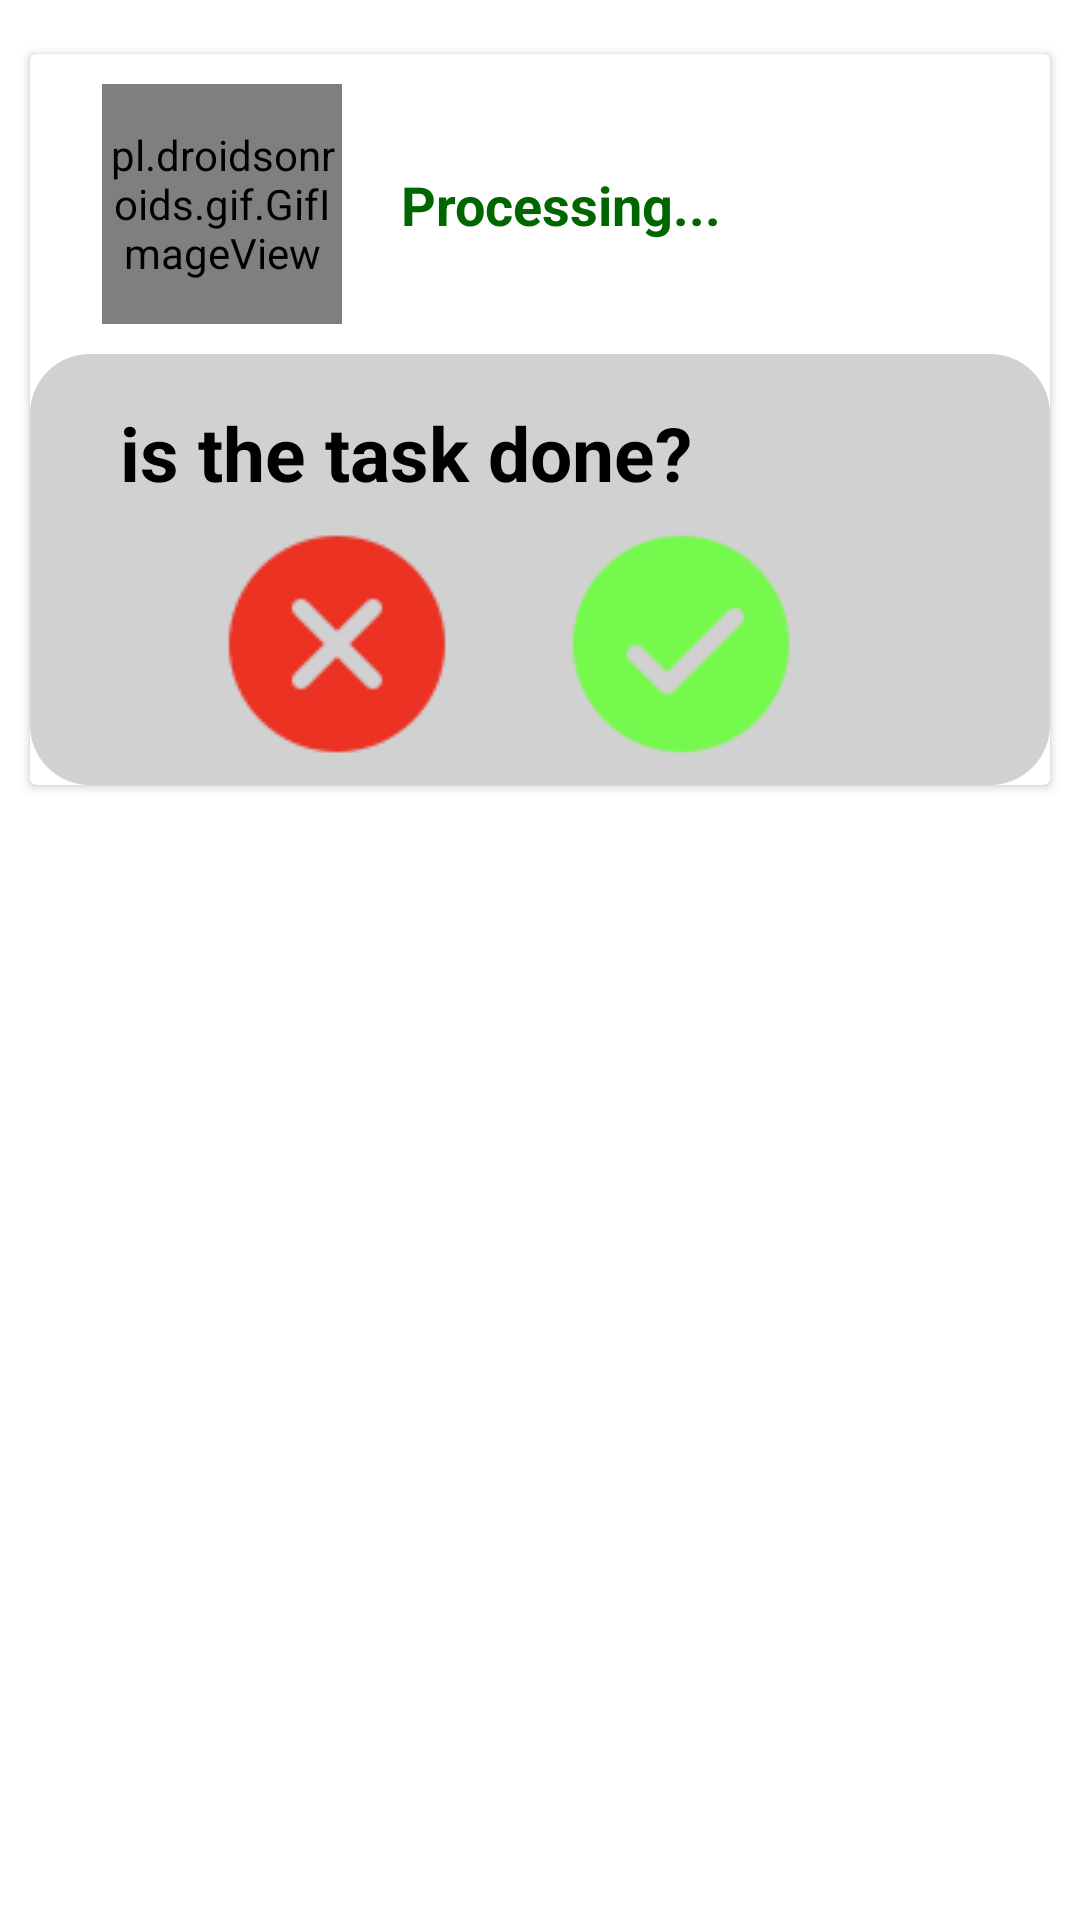

Icons on this 1080w x 1920h Android screen, each with its box as [x1, y1, x2, y2]:
This is Cross button: [228, 535, 446, 753]
This is Tik button: [572, 535, 790, 753]
